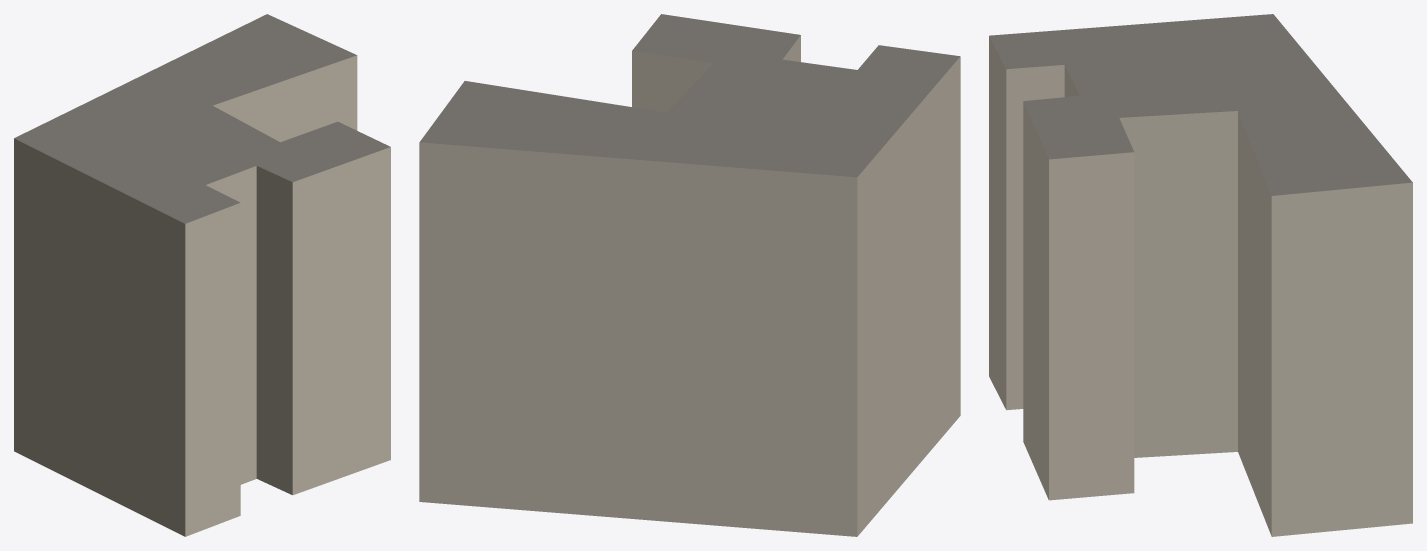
The picture shows the model from 3 angles, left to right: view 1: azimuth 30°, elevation 25°; view 2: azimuth 150°, elevation 25°; view 3: azimuth 270°, elevation 25°; orthographic projection. The views are drawn at different scales.
Visible parts, largest first — view 1: HP-w1198554863; view 2: HP-w1198554863; view 3: HP-w1198554863.
Boxes of the visible parts, left/top/right/bottom form: HP-w1198554863: left=14, top=14, right=390, bottom=536; HP-w1198554863: left=419, top=14, right=960, bottom=536; HP-w1198554863: left=989, top=14, right=1412, bottom=536.
Bounding box in the file's own units: 20.61 × 18 × 20.28.
